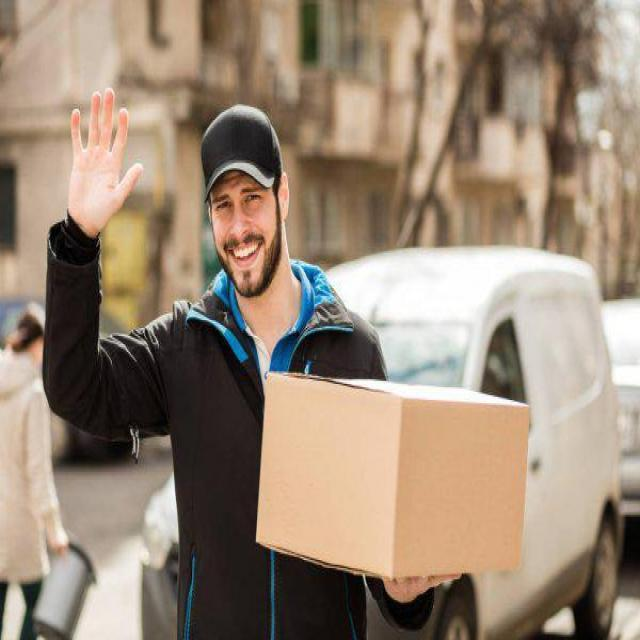box: (255, 346, 534, 590)
